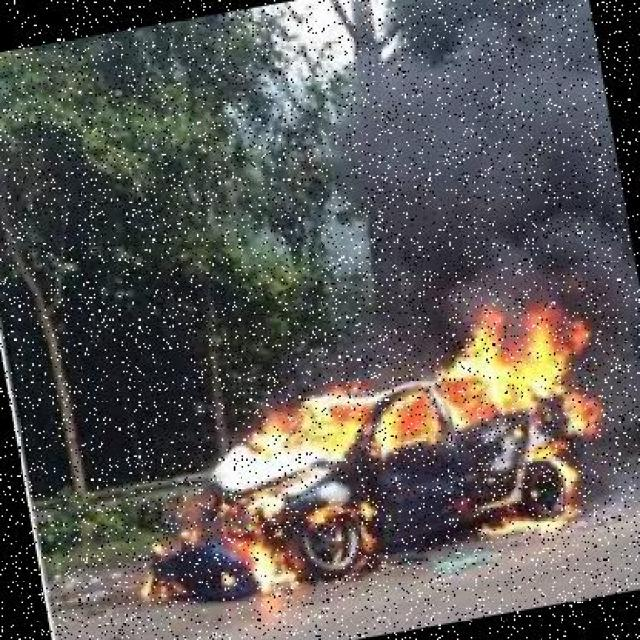fire: (229, 345, 457, 486), (118, 457, 316, 618), (452, 383, 637, 545), (428, 289, 602, 425)
